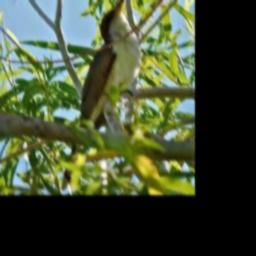Cuckoo: (60, 0, 141, 190)
